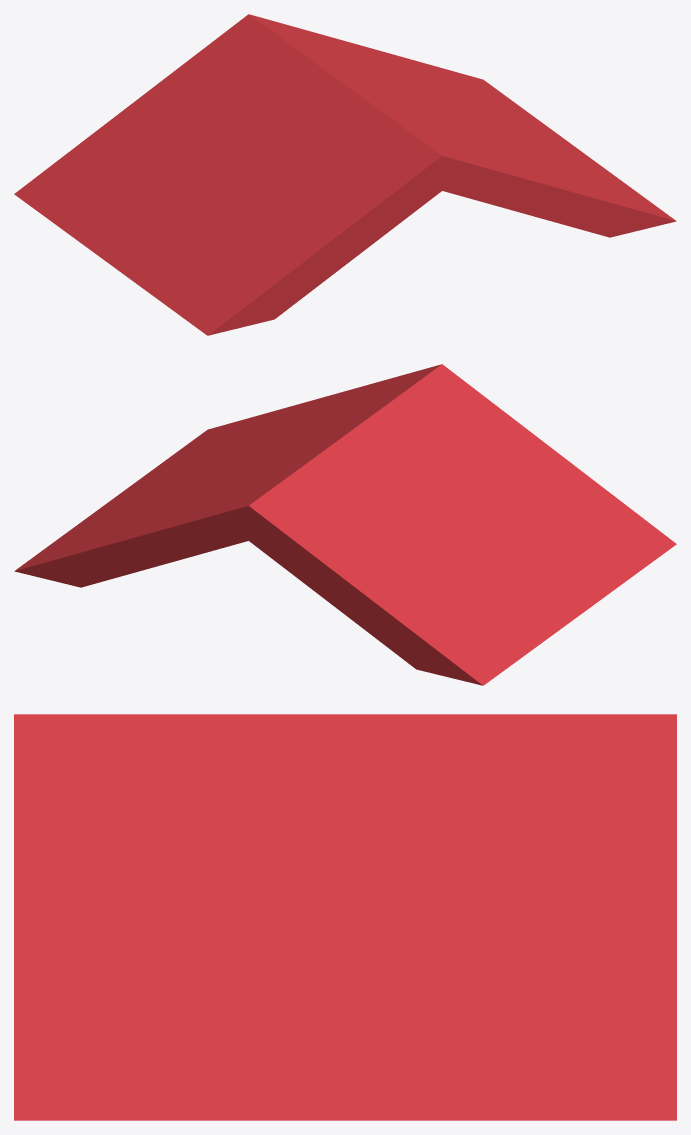
Rendered from roof_small_hip.glb.
The picture shows the model from 3 angles, top to bottom: view 1: azimuth 30°, elevation 25°; view 2: azimuth 150°, elevation 25°; view 3: azimuth 270°, elevation 25°; orthographic projection. The views are drawn at different scales.
Visible parts, largest first — view 1: roof_small_hip; view 2: roof_small_hip; view 3: roof_small_hip.
Boxes of the visible parts, box(x1,y1,x2,y2) form: roof_small_hip: box(14, 14, 676, 335); roof_small_hip: box(14, 364, 676, 685); roof_small_hip: box(14, 714, 676, 1120).
Size of the model in its own units: 1.4 by 0.35 by 1.
